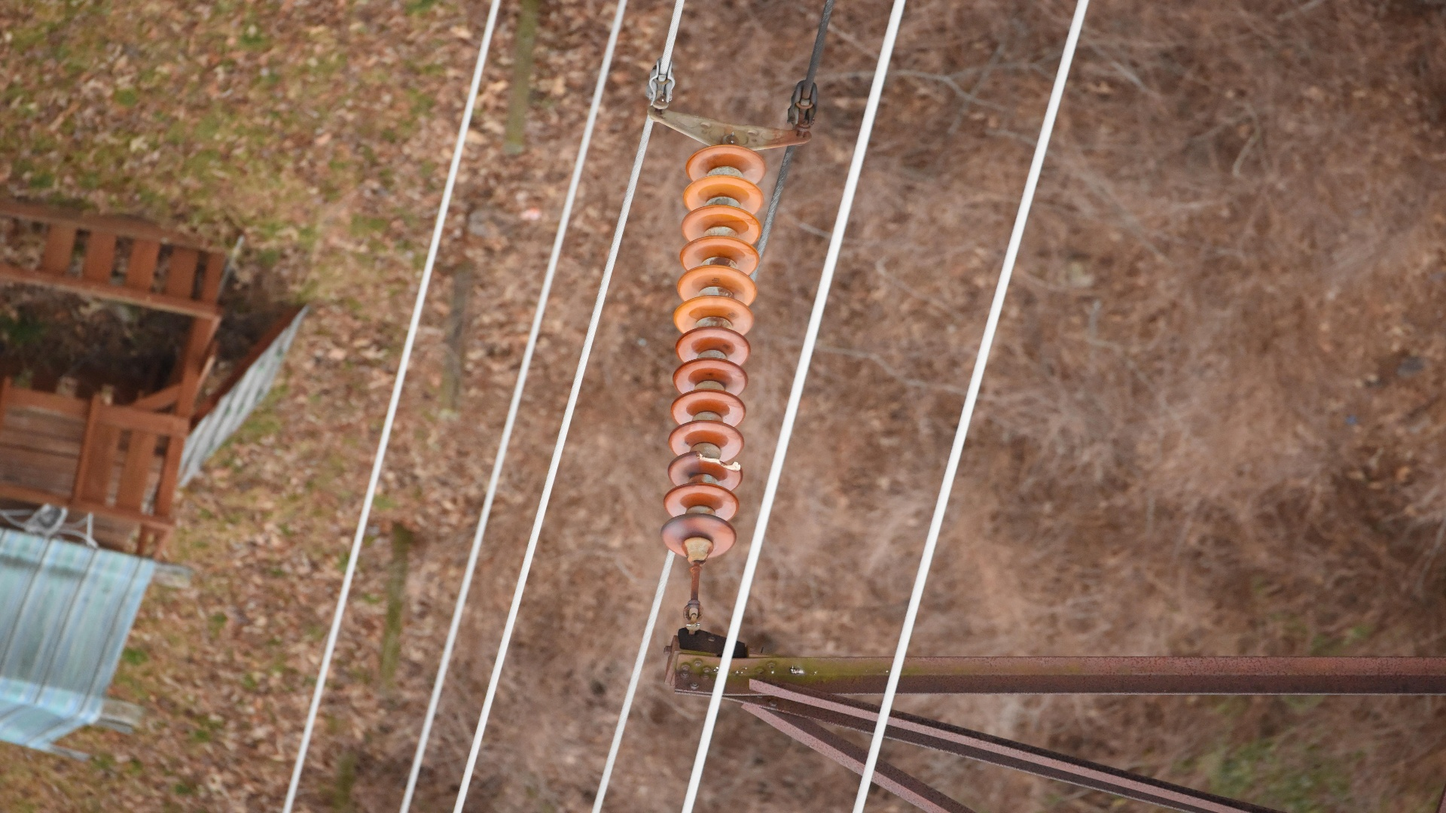insulator: (657, 139, 773, 565)
insulator_breakage: (694, 450, 744, 473)
